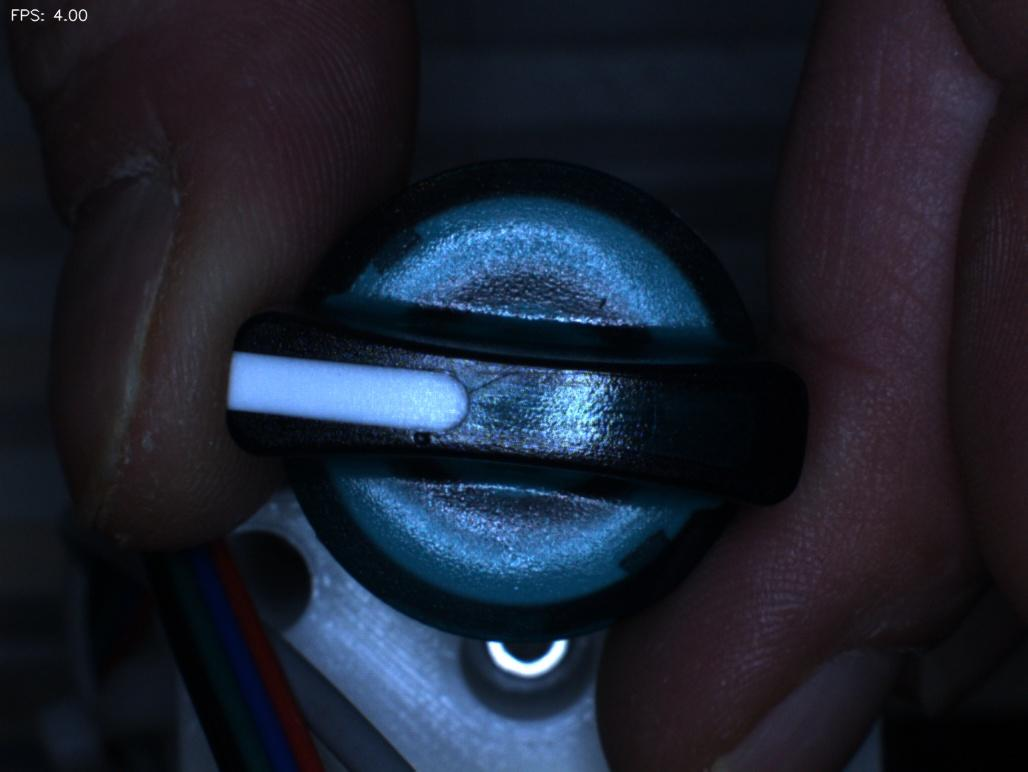Choc: (376, 392, 473, 481)
